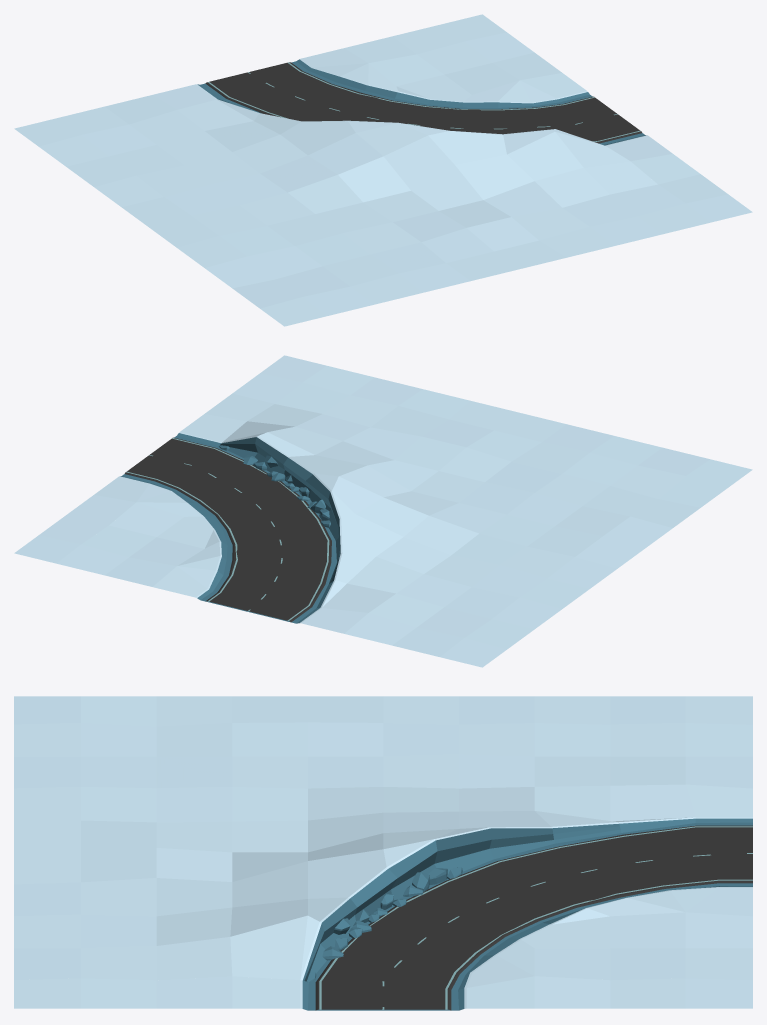
Rendered from model_road_snow_cornor_2.fbx.
The picture shows the model from 3 angles, top to bottom: view 1: azimuth 30°, elevation 25°; view 2: azimuth 150°, elevation 25°; view 3: azimuth 270°, elevation 25°; orthographic projection. The views are drawn at different scales.
Visible parts, largest first — view 1: model_road_snow_cornor_2; view 2: model_road_snow_cornor_2; view 3: model_road_snow_cornor_2.
Part boxes in pixels (bbox=[...]): model_road_snow_cornor_2: bbox=[14, 14, 752, 326]; model_road_snow_cornor_2: bbox=[14, 355, 752, 667]; model_road_snow_cornor_2: bbox=[14, 696, 752, 1010].
Bounding box in the file's own units: 6000 × 421 × 6000.
1 material, 1 textured.
